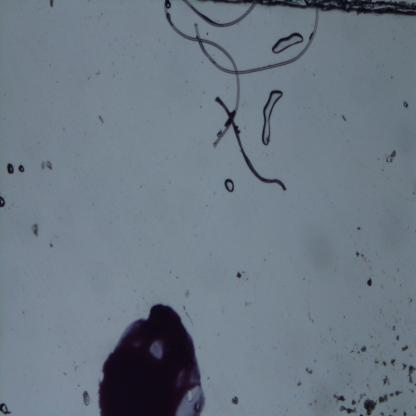Air bubble: (260, 90, 283, 147), (272, 31, 304, 54), (223, 177, 235, 193), (6, 162, 14, 177), (0, 402, 8, 414), (0, 196, 5, 207)
Background material: (334, 393, 358, 414), (377, 390, 404, 404), (363, 398, 378, 416), (29, 221, 40, 240), (39, 158, 53, 172), (372, 357, 388, 369), (94, 109, 106, 124), (407, 366, 416, 386), (385, 149, 397, 163), (403, 291, 414, 306), (82, 390, 91, 408), (292, 377, 304, 390), (364, 379, 374, 393), (303, 362, 313, 376), (355, 250, 366, 261), (16, 162, 26, 174), (230, 394, 240, 406), (364, 276, 374, 288), (234, 269, 244, 280), (382, 376, 391, 388), (400, 344, 410, 352), (388, 406, 398, 414), (390, 323, 398, 333), (360, 344, 367, 353), (376, 408, 383, 416), (49, 0, 55, 8), (391, 356, 395, 368), (396, 335, 401, 344), (48, 241, 53, 249), (401, 362, 406, 370), (402, 410, 407, 416), (358, 224, 362, 231), (351, 348, 354, 353)
Cotton: (215, 96, 286, 192)
Edge of slide: (256, 0, 416, 19)
Microfibre: (164, 0, 242, 148), (193, 9, 330, 79), (182, 0, 256, 28)
Pen: (96, 302, 206, 414)
